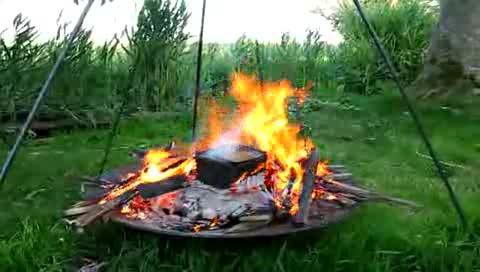fire: (104, 95, 329, 221)
